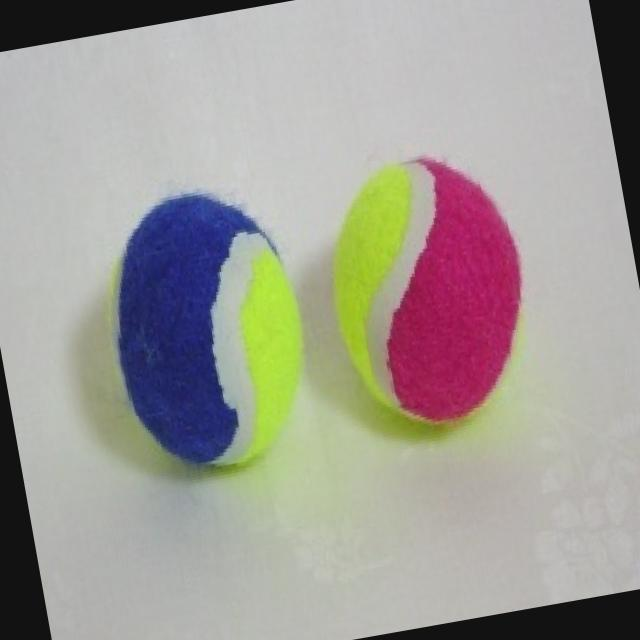Tennis Ball: (114, 193, 306, 476), (330, 156, 523, 429)
